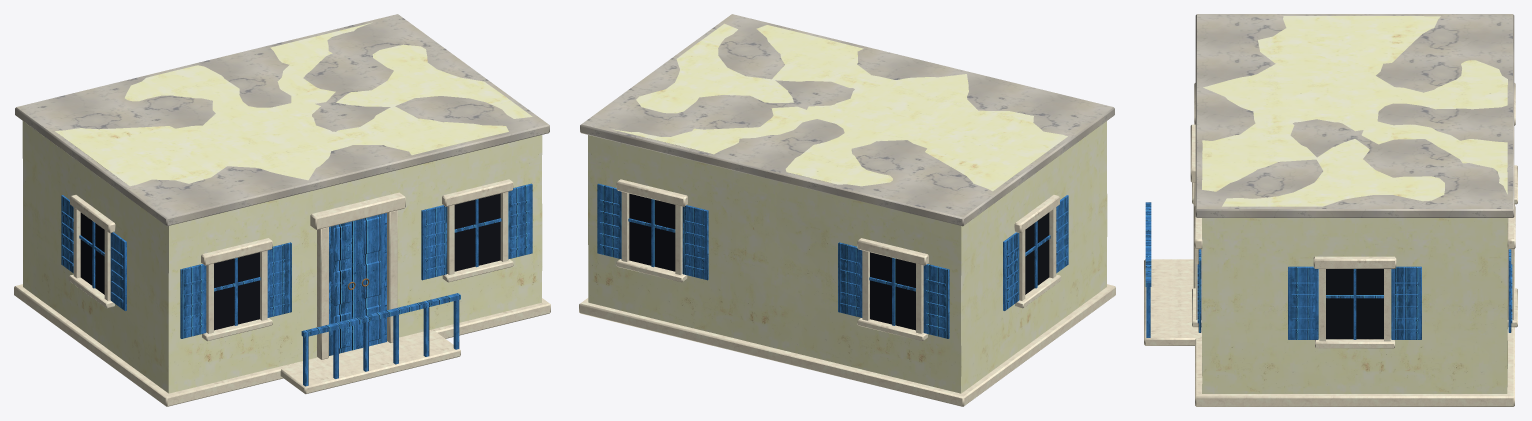
The model's file is home_villa-upper_t2_plaster.glb.
3 renders of one model, left to right at view 1: azimuth 30°, elevation 25°; view 2: azimuth 150°, elevation 25°; view 3: azimuth 270°, elevation 25°, orthographic. The views are drawn at different scales.
Parts seen in each view (by area): view 1: plaster, marble, cream, azure_wood, dark; view 2: plaster, marble, cream, azure_wood, dark; view 3: plaster, marble, cream, azure_wood, dark.
Boxes of the visible parts, <box> form: plaster: <box>22,22,542,393</box>; marble: <box>15,14,549,226</box>; cream: <box>14,179,550,406</box>; azure_wood: <box>61,183,532,386</box>; dark: <box>80,193,500,330</box>; plaster: <box>588,23,1107,393</box>; marble: <box>580,14,1114,226</box>; cream: <box>579,179,1115,406</box>; azure_wood: <box>597,183,1068,338</box>; dark: <box>629,193,1049,330</box>; plaster: <box>1202,16,1507,393</box>; marble: <box>1195,14,1514,217</box>; cream: <box>1144,83,1517,406</box>; azure_wood: <box>1145,202,1512,339</box>; dark: <box>1326,269,1383,339</box>.
Size of the model in its own units: 6.48 by 3.01 by 5.14.
Materials: 6 (5 with a texture image).
